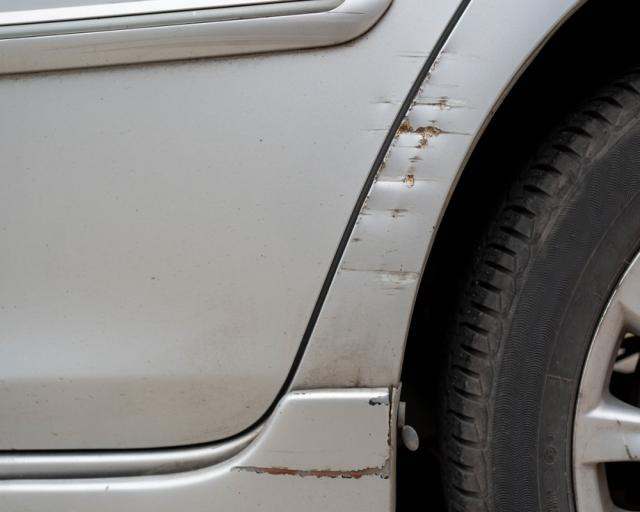crack: (231, 386, 396, 484)
scratch: (333, 47, 476, 293), (359, 48, 434, 136)
